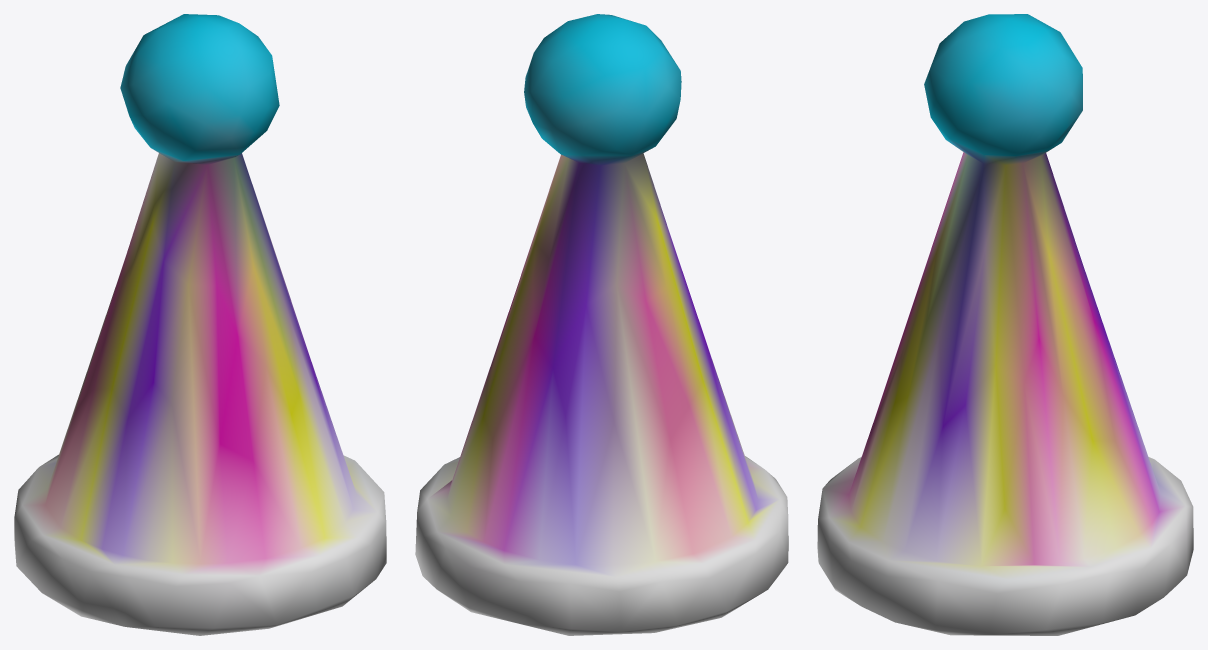
File: hat_party.glb
3 renders of one model, left to right at view 1: azimuth 30°, elevation 25°; view 2: azimuth 150°, elevation 25°; view 3: azimuth 270°, elevation 25°, orthographic.
Visible parts, largest first — view 1: geometry_0; view 2: geometry_0; view 3: geometry_0.
Part boxes in pixels (x1,y1,x2,y2): geometry_0: [14, 14, 386, 635]; geometry_0: [415, 14, 788, 635]; geometry_0: [817, 14, 1193, 635].
Size of the model in its own units: 0.2633 by 0.42 by 0.2626.
